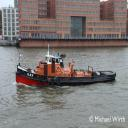tugboat: (16, 45, 118, 91)
